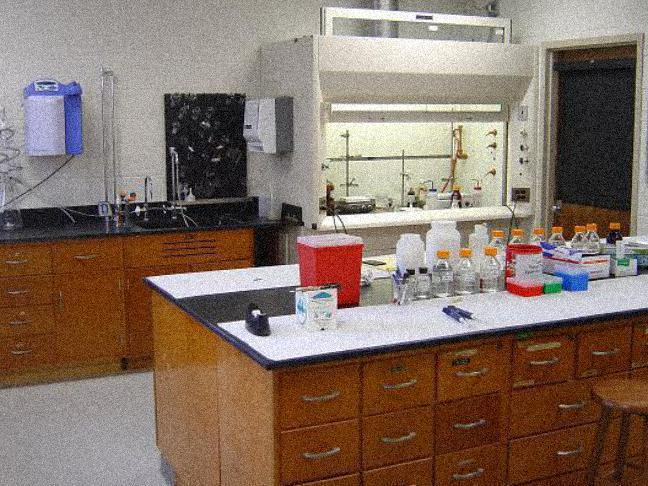Puerta: (545, 43, 635, 227)
